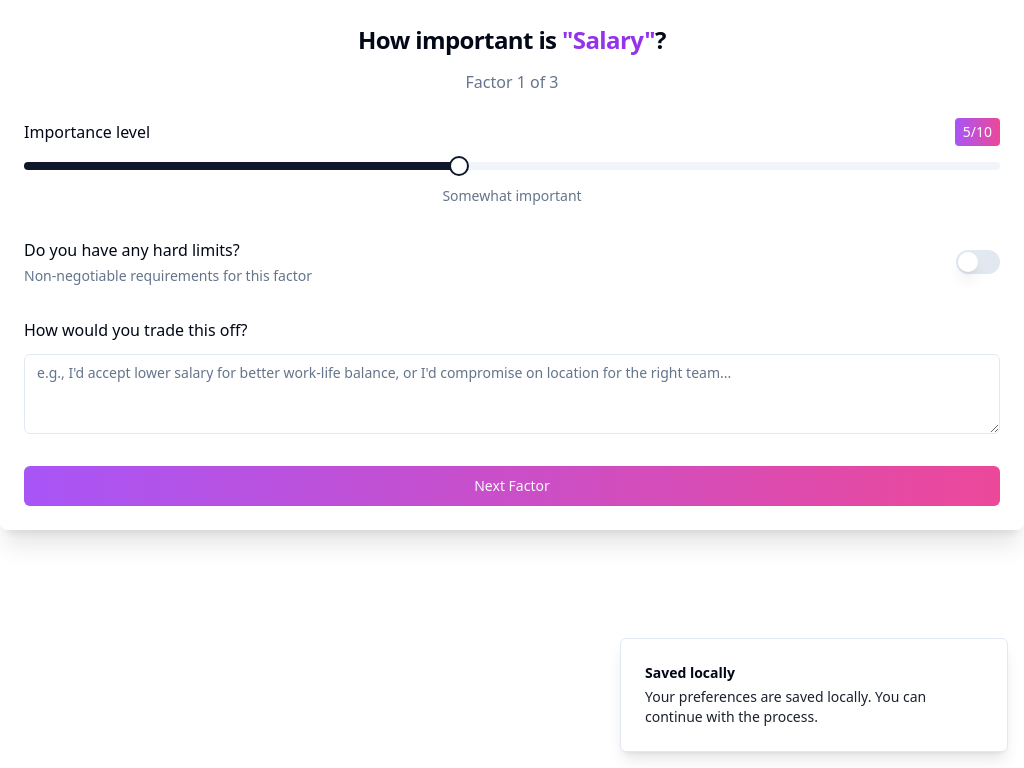
Test: PhaseOne › should show loading state while saving
# Navigate to last factor
Click the button "Next Factor": point(512, 486) left=24, top=466, right=1000, bottom=506
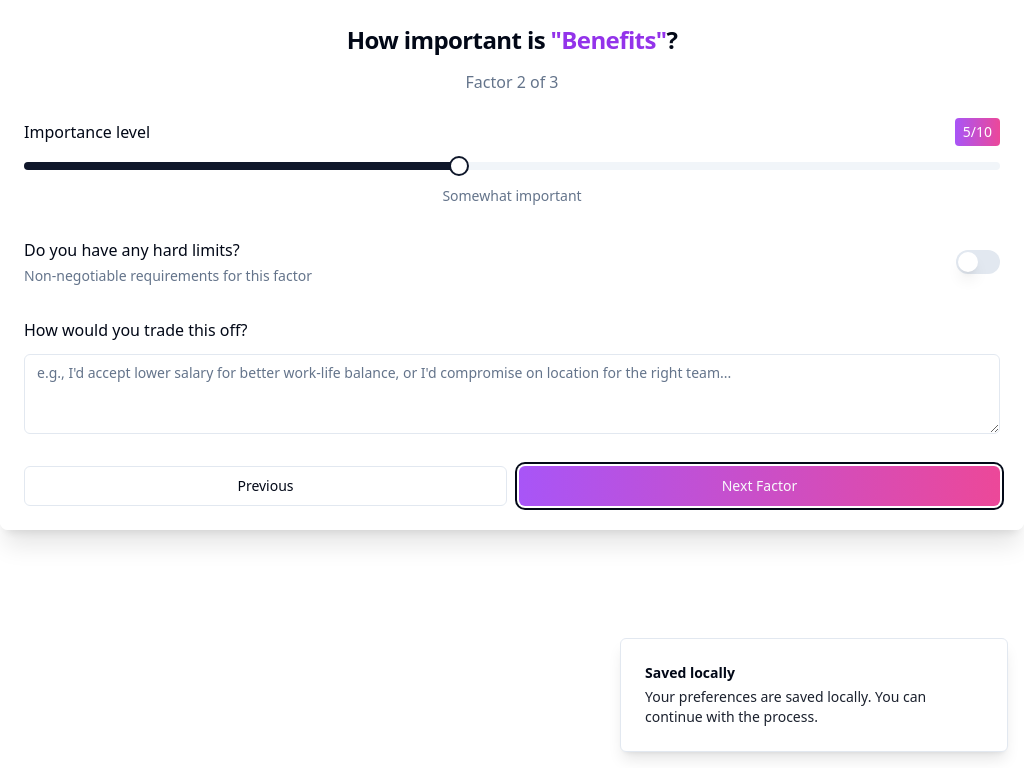
Click the button "Next Factor": point(760, 486) left=519, top=466, right=1000, bottom=506
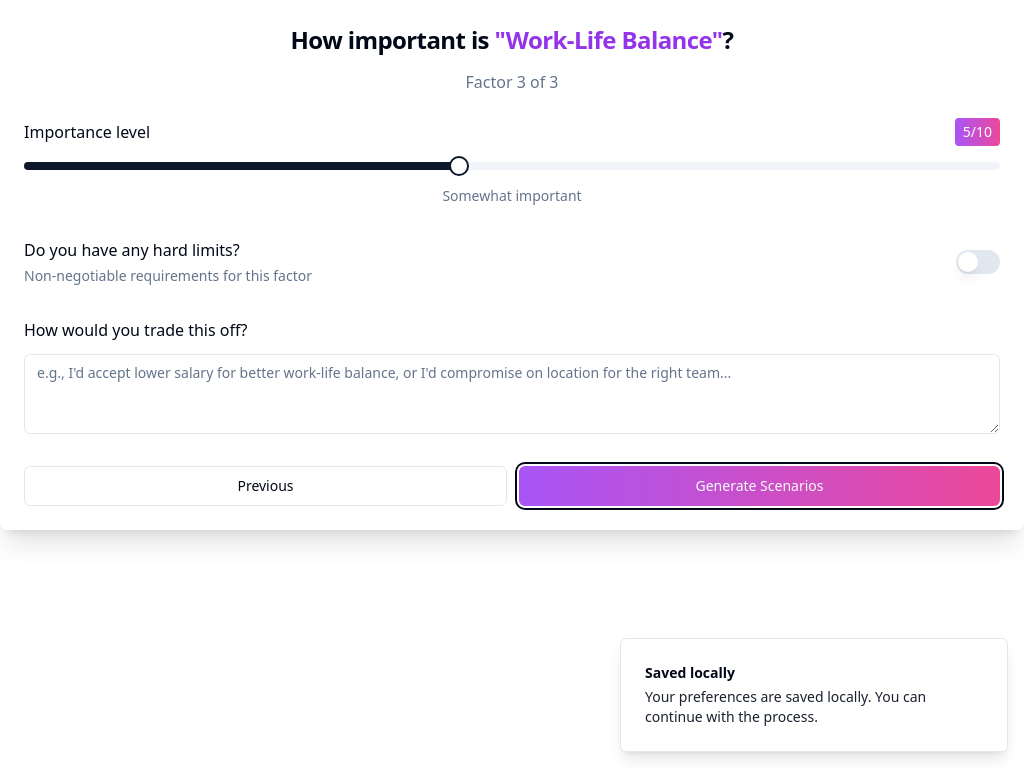
Click the button "Generate Scenarios": point(760, 486) left=519, top=466, right=1000, bottom=506
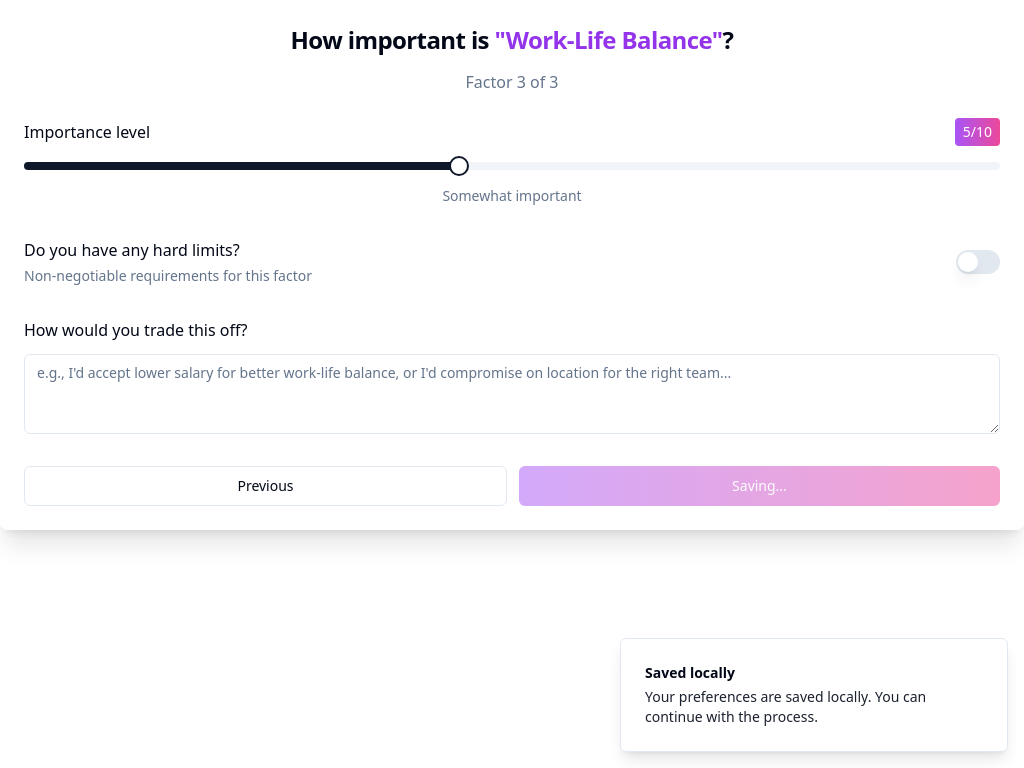
Check: the button "Saving..." is disabled, box left=519, top=466, right=1000, bottom=506
